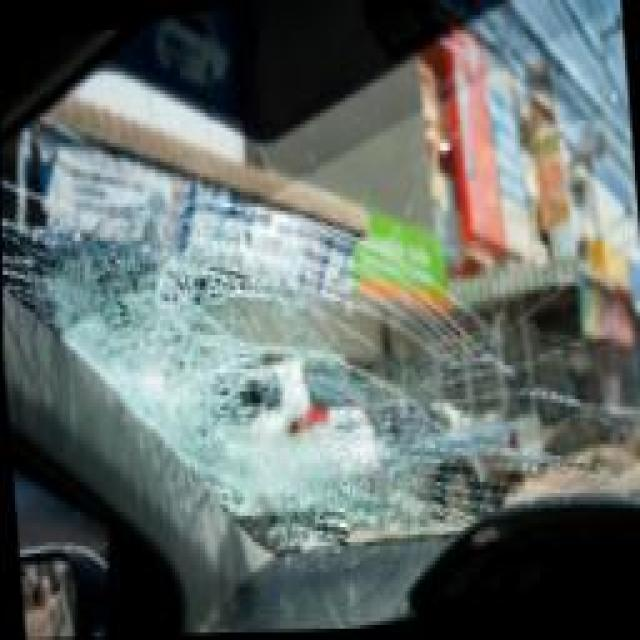Windshield: (0, 0, 640, 595)
